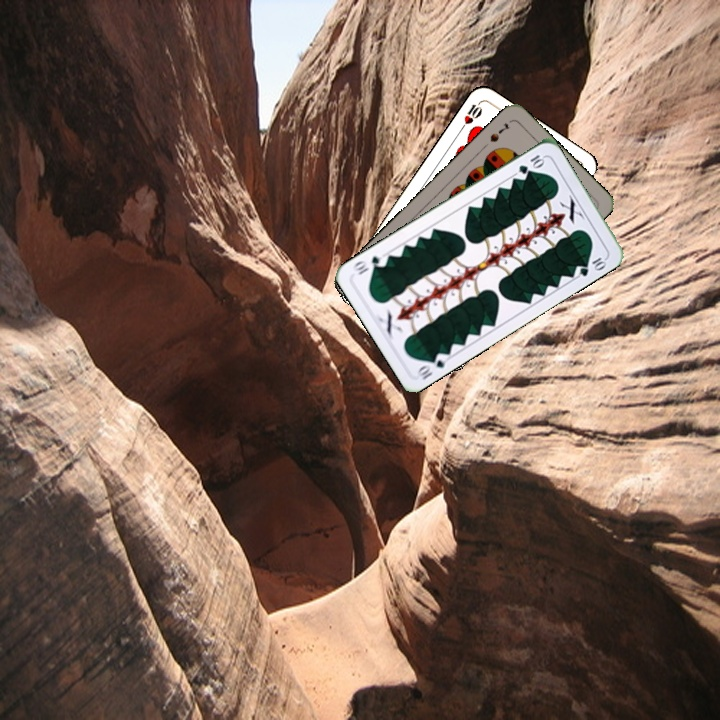G10: (414, 348, 448, 383), (514, 151, 547, 177)
H10: (456, 97, 485, 133)
S7: (486, 119, 512, 145)
